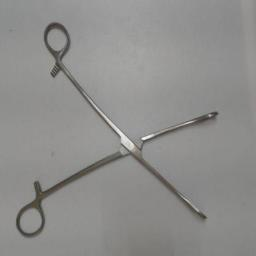Sponge Forceps: (12, 18, 224, 242)
